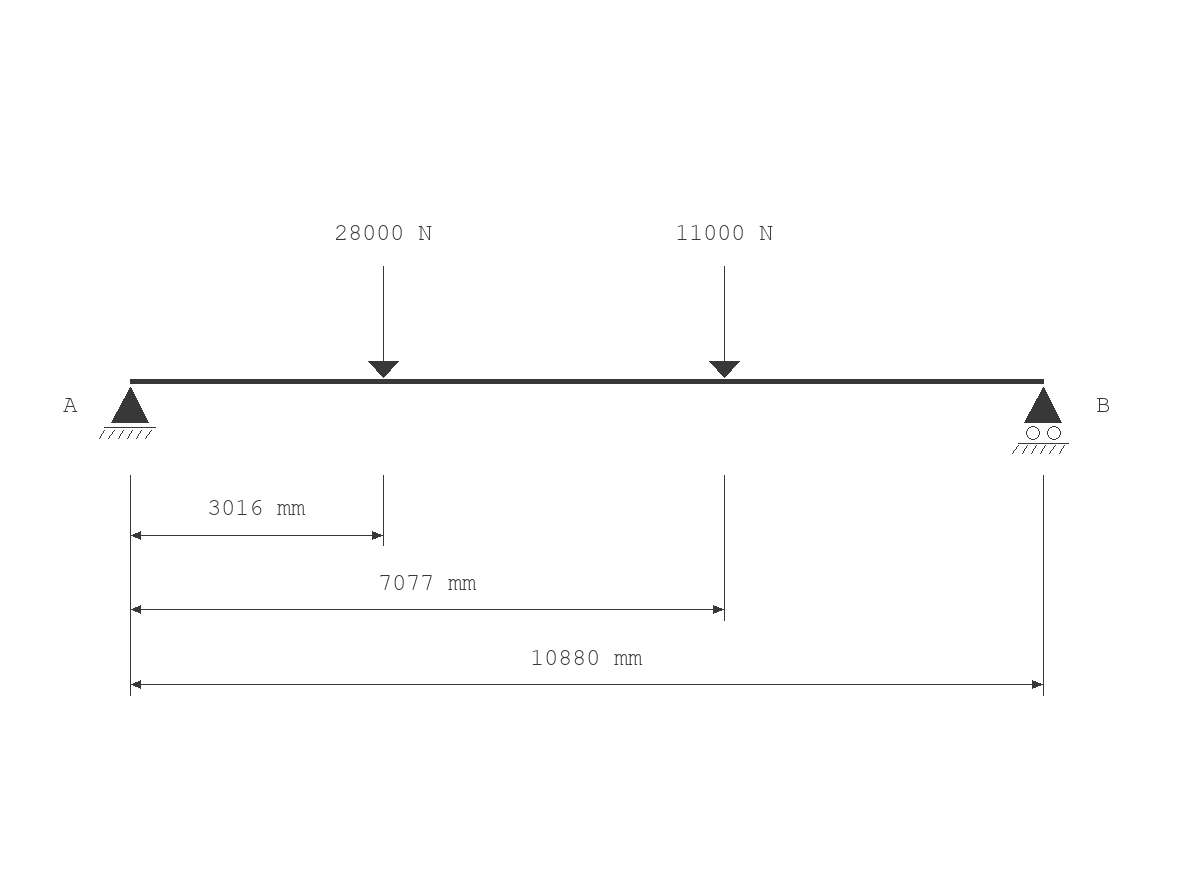pin_support: (99, 387, 156, 439)
point_load: (368, 266, 399, 378), (709, 266, 740, 378)
roller_support: (1012, 387, 1069, 454)
